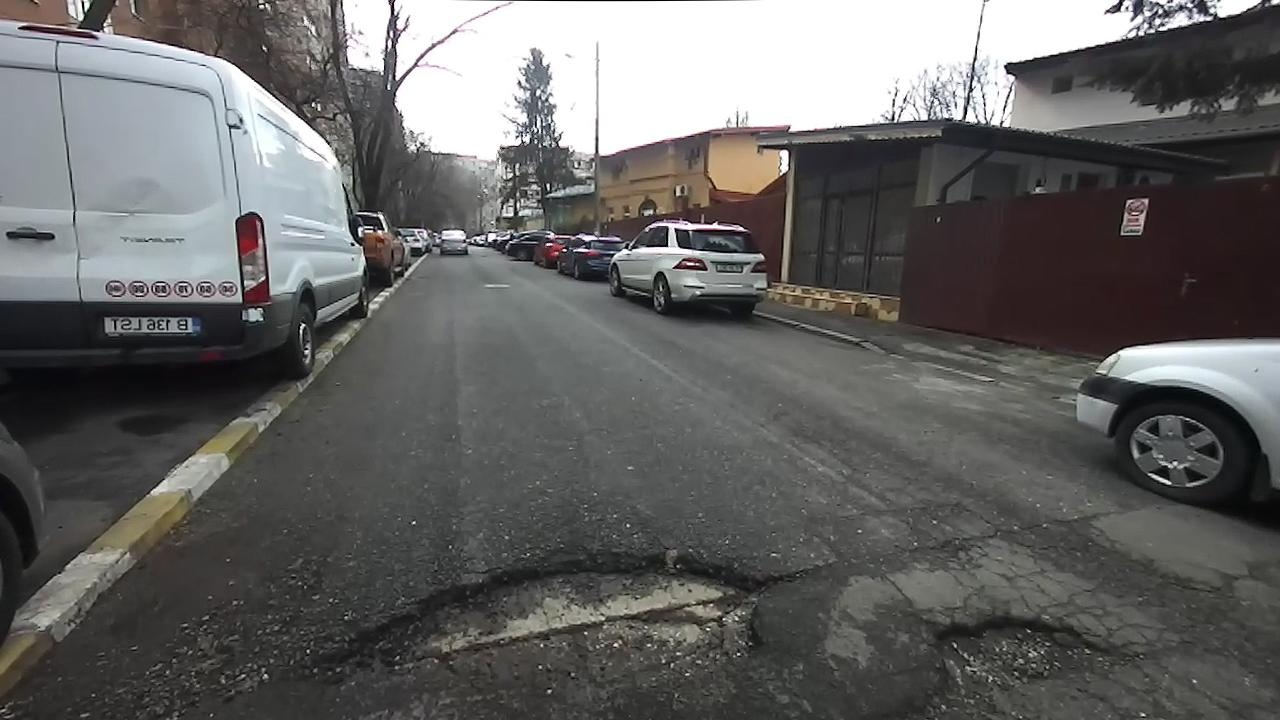pothole: (279, 537, 812, 713), (904, 613, 1131, 709)
